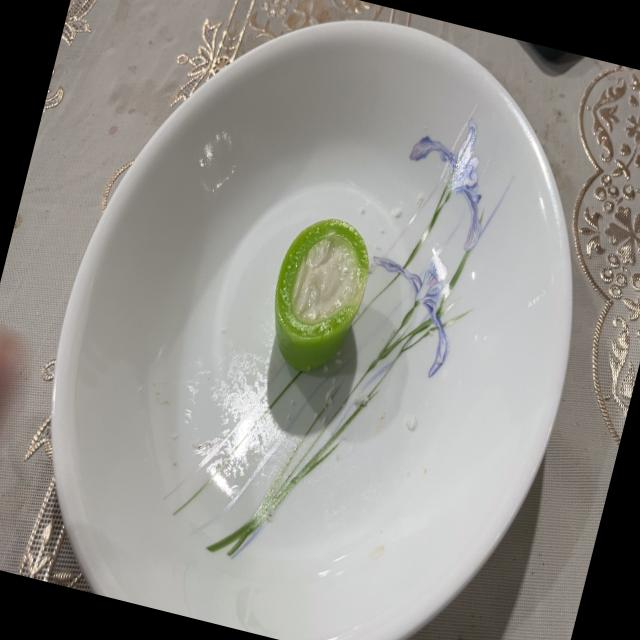nona-manis: (274, 218, 369, 372)
